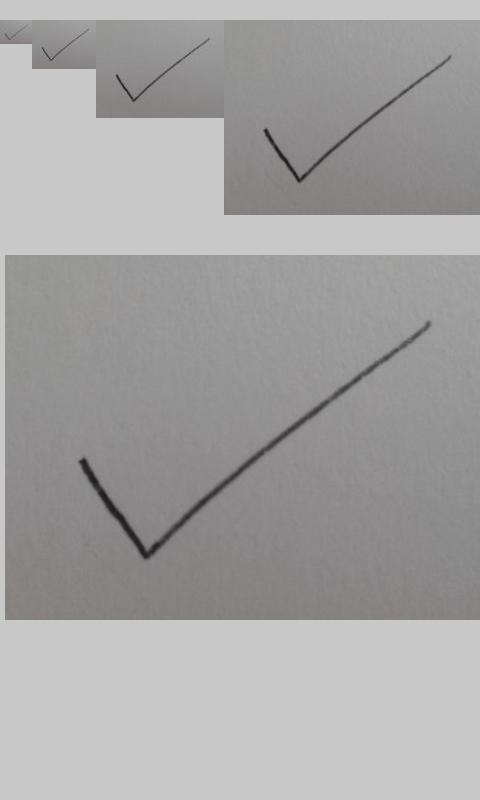check_box: (78, 320, 433, 561), (264, 55, 452, 183), (116, 36, 211, 102), (41, 29, 88, 61), (4, 26, 26, 41)
